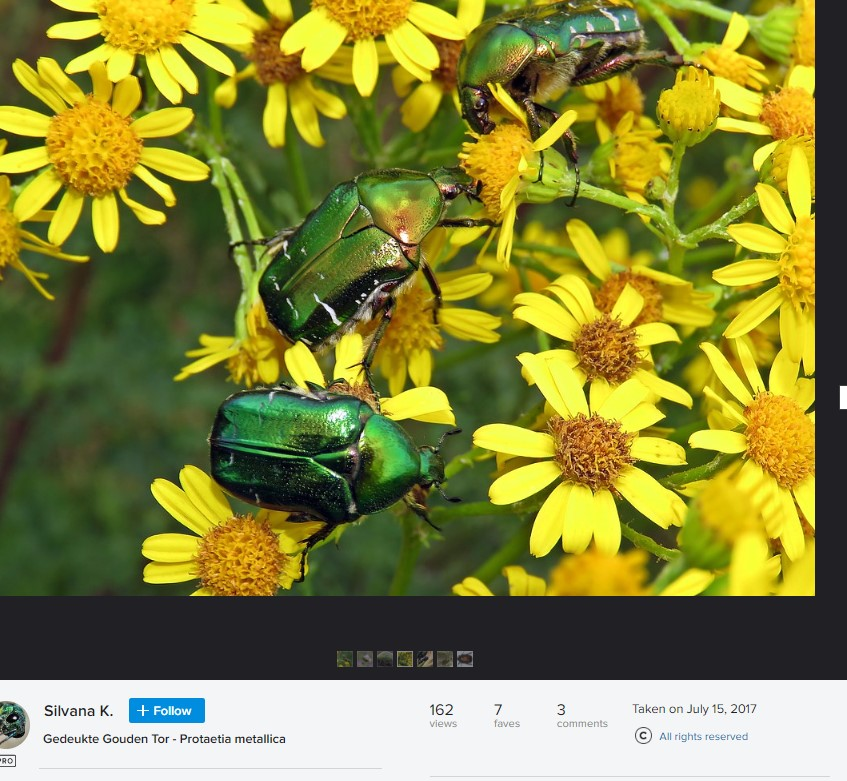Protaetia_metallica: (221, 153, 487, 358), (207, 377, 457, 579), (433, 3, 684, 141)
